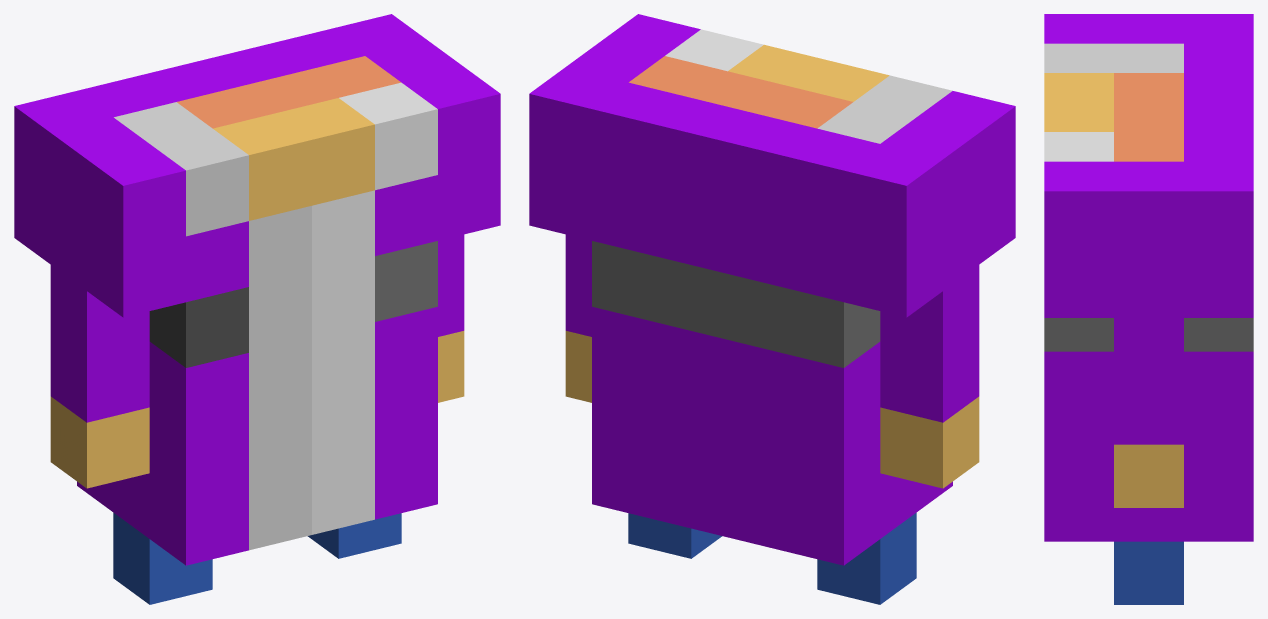
Rendered from Body 3.obj.
The picture shows the model from 3 angles, left to right: view 1: azimuth 30°, elevation 25°; view 2: azimuth 150°, elevation 25°; view 3: azimuth 270°, elevation 25°; orthographic projection. The views are drawn at different scales.
Size of the model in its own units: 6 by 7 by 3.
1 material, 1 textured.
